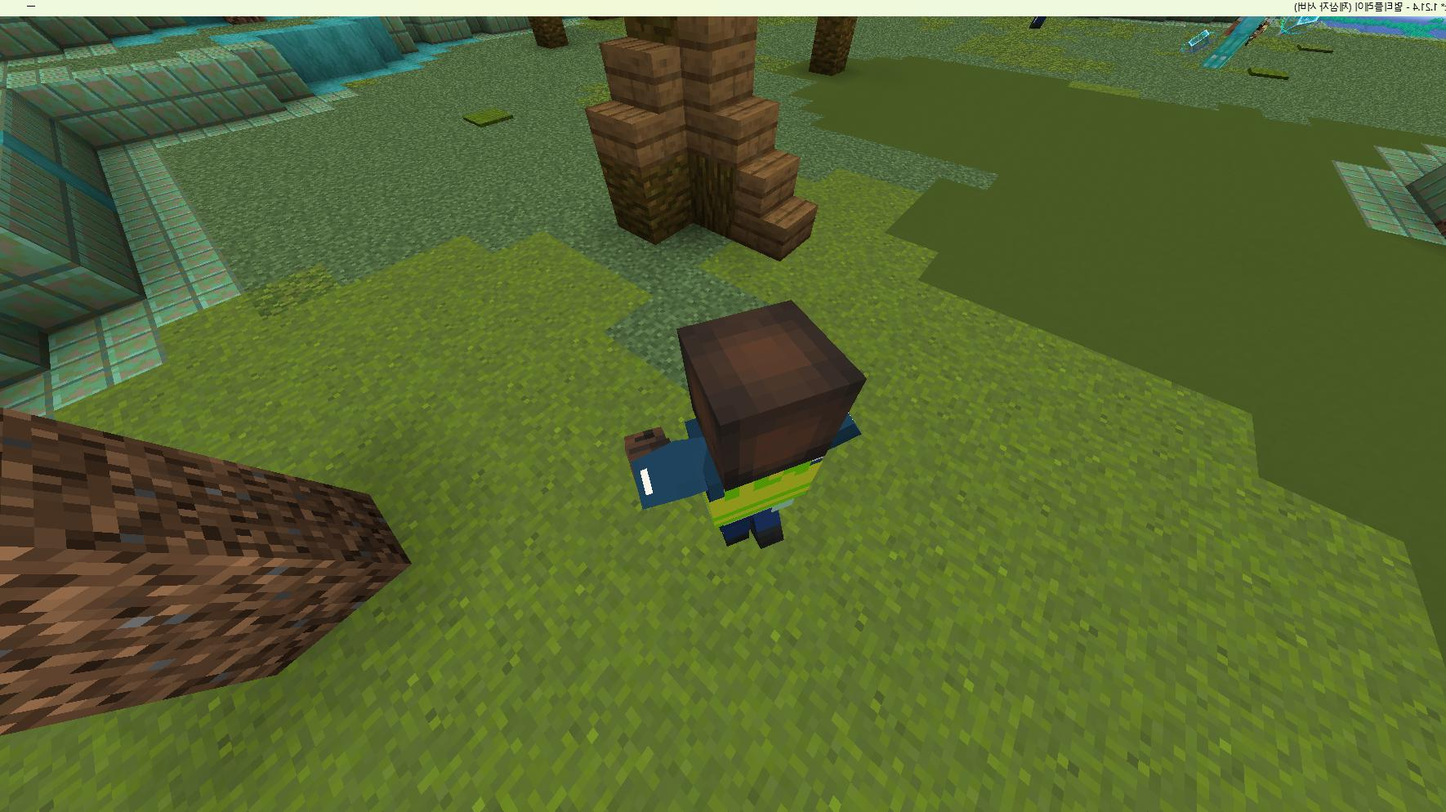Guardian: (625, 301, 865, 548)
